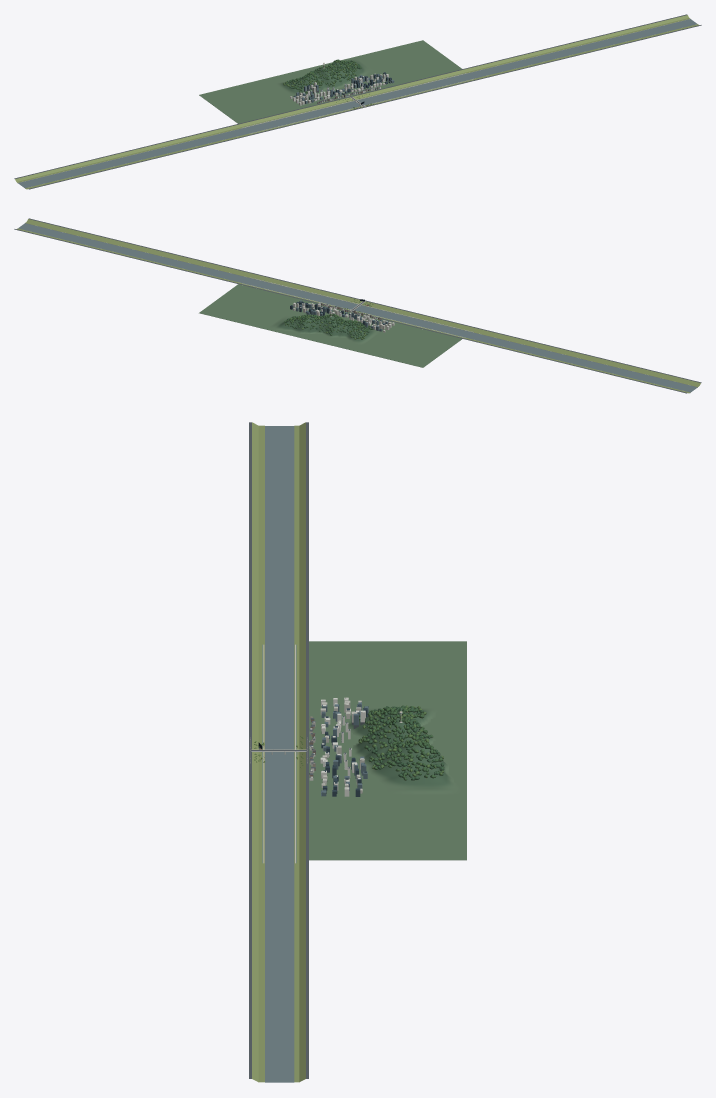
The model's file is mobile-world.glb.
The picture shows the model from 3 angles, top to bottom: view 1: azimuth 30°, elevation 25°; view 2: azimuth 150°, elevation 25°; view 3: azimuth 270°, elevation 25°; orthographic projection. The views are drawn at different scales.
Visible parts, largest first — view 1: Context_SP_grass, Context_SP_water, SR_NorthSlope, SR_SouthLow, Context_NS2_MountainGrade, SR_NorthLow, SR_SouthRoad, SR_NorthRoad, Context_SP_NS2Forest0, Context_SP_city_white, Context_SP_city_blue, Context_SP_NS2Forest2 (+3 smaller); view 2: Context_SP_grass, Context_SP_water, SR_SouthSlope, SR_SouthLow, Context_NS2_MountainGrade, SR_NorthLow, SR_SouthRoad, SR_NorthRoad, Context_SP_NS2Forest0, Context_SP_NS2Forest2, Context_SP_city_white, Context_SP_stone (+1 smaller); view 3: Context_SP_grass, Context_SP_water, SR_SouthSlope, SR_NorthSlope, SR_SouthLow, Context_NS2_MountainGrade, SR_NorthLow, Context_SP_NS2Forest0, SR_SouthRoad, SR_NorthRoad, Context_SP_NS2Forest2, Context_SP_city_white.
Part boxes in pixels (box(x1,y1,x2,y2)): Context_SP_grass: box(199, 40, 461, 123); Context_SP_water: box(18, 19, 697, 188); SR_NorthSlope: box(15, 15, 689, 181); SR_SouthLow: box(25, 24, 698, 189); Context_NS2_MountainGrade: box(275, 57, 374, 97); SR_NorthLow: box(17, 18, 690, 182); SR_SouthRoad: box(28, 25, 701, 189); SR_NorthRoad: box(14, 14, 687, 178); Context_SP_NS2Forest0: box(285, 59, 361, 94); Context_SP_city_white: box(293, 73, 388, 105); Context_SP_city_blue: box(293, 73, 394, 103); Context_SP_NS2Forest2: box(283, 59, 360, 92); Context_SP_grass: box(199, 284, 461, 367); Context_SP_water: box(18, 223, 697, 392); SR_SouthSlope: box(26, 219, 700, 385); SR_SouthLow: box(25, 222, 698, 386); Context_NS2_MountainGrade: box(267, 315, 380, 345); SR_NorthLow: box(17, 228, 690, 393); SR_SouthRoad: box(28, 218, 701, 382); SR_NorthRoad: box(14, 229, 687, 393); Context_SP_NS2Forest0: box(284, 314, 371, 337); Context_SP_NS2Forest2: box(285, 313, 373, 339); Context_SP_city_white: box(293, 302, 394, 329); Context_SP_stone: box(25, 223, 697, 387); Context_SP_grass: box(309, 641, 466, 860); Context_SP_water: box(265, 426, 294, 1082); SR_SouthSlope: box(252, 422, 258, 1082); SR_NorthSlope: box(299, 422, 305, 1082); SR_SouthLow: box(258, 425, 264, 1082); Context_NS2_MountainGrade: box(348, 708, 461, 794); SR_NorthLow: box(294, 425, 299, 1082); Context_SP_NS2Forest0: box(358, 706, 444, 780); SR_SouthRoad: box(249, 422, 251, 1078); SR_NorthRoad: box(306, 422, 308, 1078); Context_SP_NS2Forest2: box(362, 705, 444, 780); Context_SP_city_white: box(309, 697, 365, 796).
Size of the model in its own units: 4800 by 148 by 674.
